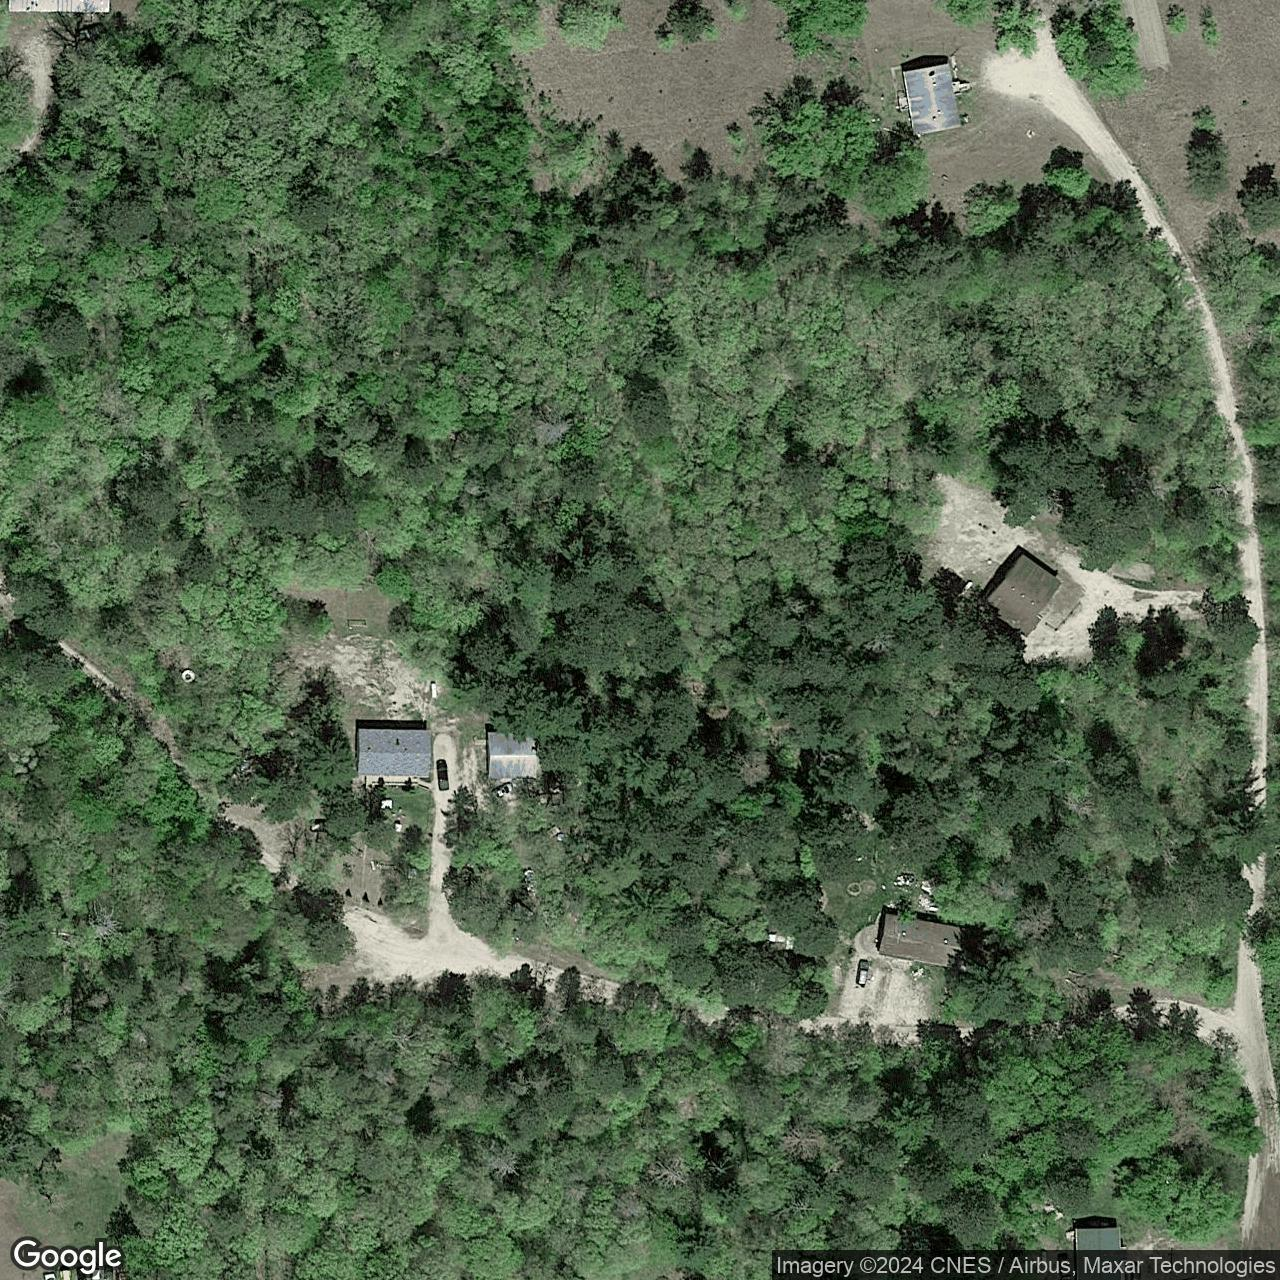Garage: (485, 730, 537, 779)
House: (985, 552, 1064, 638), (876, 912, 967, 972), (900, 61, 965, 137), (355, 727, 433, 779), (8, 0, 111, 14), (1074, 1226, 1122, 1250)
Propane: (960, 577, 975, 593), (430, 679, 438, 699)
